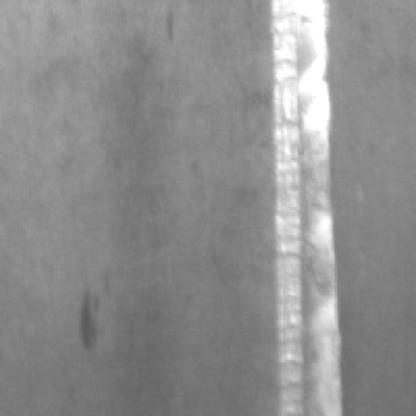inclusion: (70, 287, 104, 360)
scratches: (264, 4, 343, 416)
